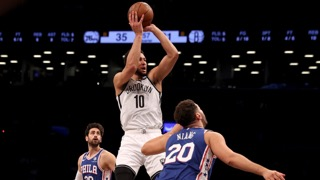Jumpshot: (127, 1, 180, 69)
